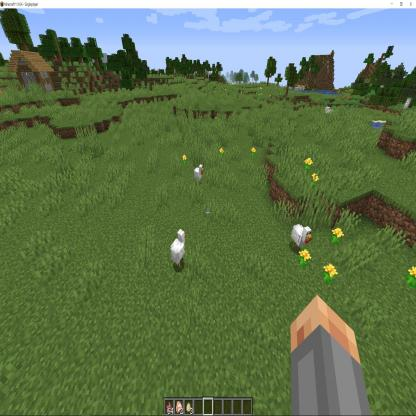minecraft-pigs: (291, 219, 314, 257), (171, 227, 188, 270), (193, 162, 204, 186)
